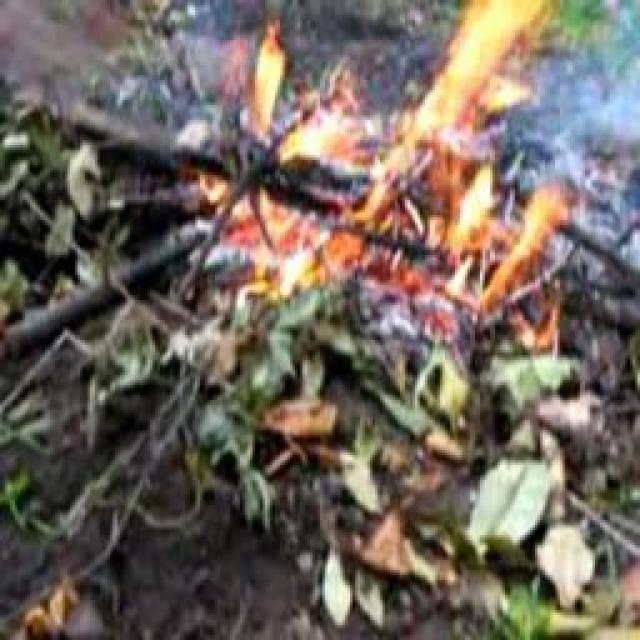Fire: (345, 7, 554, 324), (255, 39, 385, 264)
